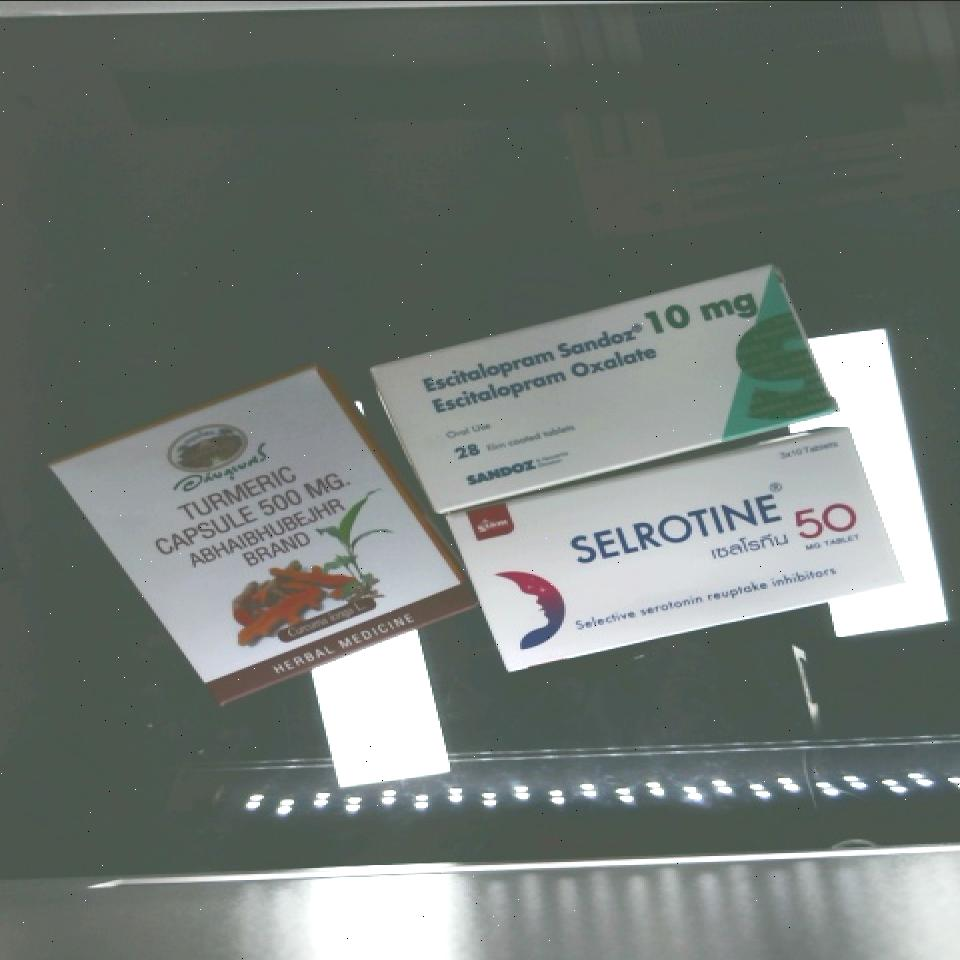medicine_box: (52, 310, 479, 761), (367, 254, 835, 517), (445, 414, 898, 678)
medicine_label_obb: (401, 269, 780, 433), (116, 424, 405, 612), (545, 455, 879, 602)
